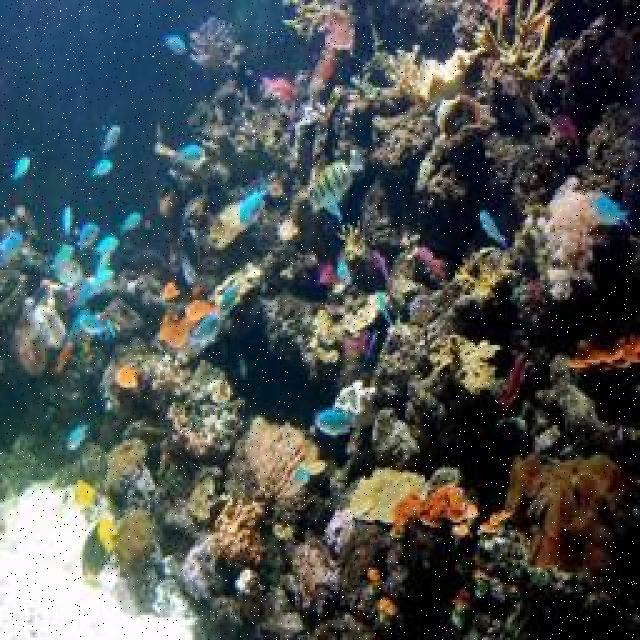aquatic plants: (482, 454, 622, 566)
fish: (308, 151, 365, 211), (315, 2, 353, 55), (589, 196, 635, 226), (480, 210, 512, 251), (259, 77, 303, 103), (239, 186, 269, 222), (168, 144, 208, 169), (186, 317, 221, 343), (316, 411, 357, 433), (76, 221, 101, 251), (78, 316, 115, 336), (97, 510, 114, 550), (185, 300, 218, 319), (9, 158, 30, 180), (67, 423, 84, 448)
reefs: (538, 179, 606, 299), (244, 418, 317, 496), (352, 466, 427, 522), (391, 488, 477, 533), (566, 334, 638, 368)
